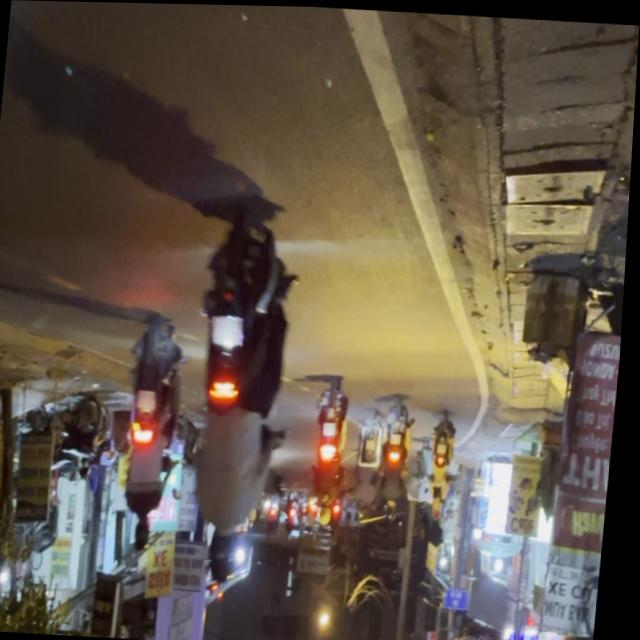helmet: (211, 525, 244, 585), (135, 511, 160, 553)
licenseplate: (179, 199, 307, 596), (117, 313, 198, 553)
nohelmet: (212, 315, 247, 349), (139, 388, 161, 412)
